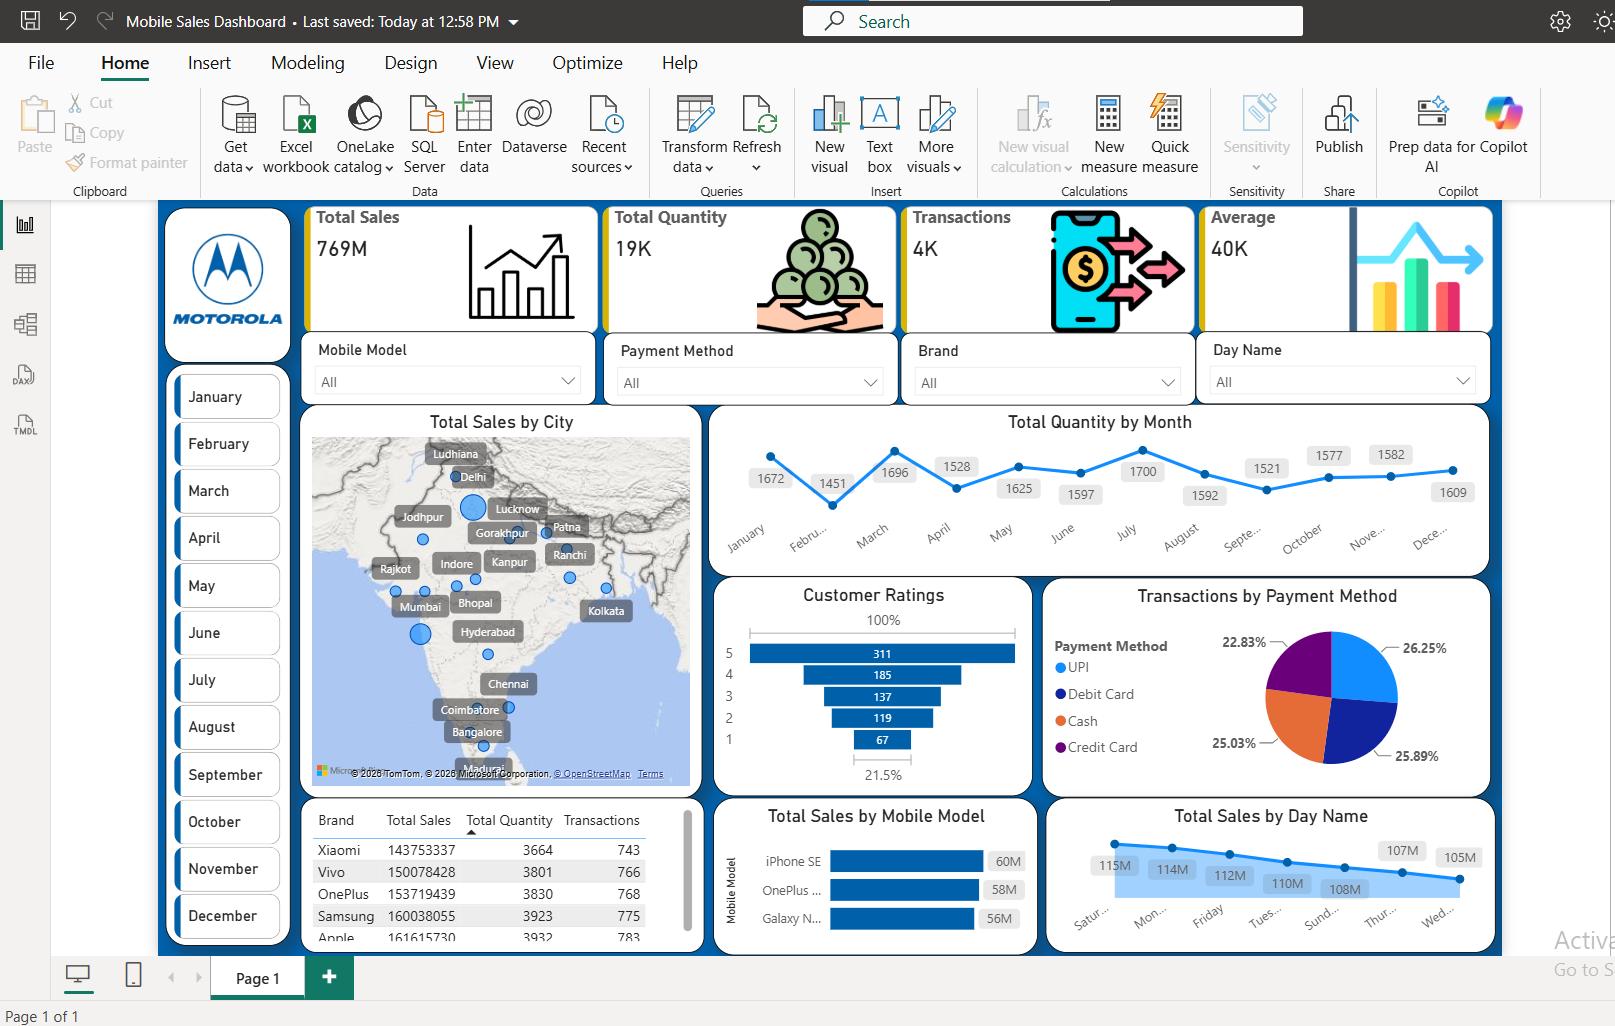

What the dashboard file says about the page in this screenshot:
{"tool":"powerbi","page":{"name":"Page 1","canvas":[1280,720],"ordinal":0},"visuals":[{"type":"shape","box":[5.5,6.9,120.8,148.2],"z":0},{"type":"image","box":[9.6,16.5,113.9,116.6],"z":1000},{"type":"shape","box":[6.9,156.4,119.4,554.4],"z":2000},{"type":"advancedSlicerVisual","fields":{"Values":["Sales_Data.Date.Variation.Date Hierarchy.Month"]},"box":[11,160.5,111.1,548.9],"z":3000},{"type":"cardVisual","fields":{"Data":["Sales_Data.Total Sales","Sales_Data.Total Quantity","Sales_Data.Transactions","Sales_Data.Average"]},"box":[134.5,5.5,1145.8,127.6],"z":4000},{"type":"map","fields":{"Category":["Sales_Data.City"],"Size":["Sales_Data.Total Sales"]},"box":[134.5,193.5,384.2,376],"z":5000},{"type":"lineChart","fields":{"Category":["Sales_Data.Date.Variation.Date Hierarchy.Month","Sales_Data.Date.Variation.Date Hierarchy.Day"],"Y":["Sales_Data.Total Quantity"]},"box":[524.2,193.5,745.1,164.7],"z":6000},{"type":"clusteredBarChart","fields":{"Category":["Sales_Data.Mobile Model"],"Y":["Sales_Data.Total Sales"]},"box":[528.6,569.1,309.5,150],"z":7000},{"type":"pieChart","fields":{"Category":["Sales_Data.Payment Method"],"Y":["Sales_Data.Transactions"]},"box":[841.7,359.5,428.1,209.9],"z":8000},{"type":"funnel","title":"Customer Ratings","fields":{"Category":["Sales_Data.Customer Ratings"],"Y":["CountNonNull(Sales_Data.Customer Ratings)"]},"box":[528.6,358.3,304.6,209.9],"z":9000},{"type":"areaChart","fields":{"Category":["Sales_Data.Day Name"],"Y":["Sales_Data.Total Sales"]},"box":[845.2,569.1,428.6,147.6],"z":10000},{"type":"tableEx","fields":{"Values":["Sales_Data.Brand","Sales_Data.Total Sales","Sales_Data.Total Quantity","Sales_Data.Transactions"]},"box":[135.7,569.1,384.5,147.6],"z":11000},{"type":"slicer","fields":{"Values":["Sales_Data.Mobile Model"]},"box":[135.8,124.9,281.4,70.3],"z":12000},{"type":"slicer","fields":{"Values":["Sales_Data.Payment Method"]},"box":[424,126.2,281.4,69.2],"z":13000},{"type":"slicer","fields":{"Values":["Sales_Data.Brand"]},"box":[706.7,126.2,281.4,69.2],"z":14000},{"type":"slicer","fields":{"Values":["Sales_Data.Day Name"]},"box":[988,124.9,281.4,69.2],"z":15000}]}

Visuals, with their boxes on the page's 1280x720 design canvas (x1, y1, x2, y2). These are canvas units, not pixel positions in the 1615x1026 screenshot, which may show the page scaled, cropped or inside an application window:
shape: <box>6,7,126,155</box>
image: <box>10,16,124,133</box>
shape: <box>7,156,126,711</box>
advancedSlicerVisual - Sales_Data.Date.Variation.Date Hierarchy.Month: <box>11,160,122,709</box>
cardVisual - Sales_Data.Total Sales x Sales_Data.Total Quantity: <box>134,6,1280,133</box>
map - Sales_Data.City x Sales_Data.Total Sales: <box>134,194,519,570</box>
lineChart - Sales_Data.Date.Variation.Date Hierarchy.Month x Sales_Data.Date.Variation.Date Hierarchy.Day: <box>524,194,1269,358</box>
clusteredBarChart - Sales_Data.Mobile Model x Sales_Data.Total Sales: <box>529,569,838,719</box>
pieChart - Sales_Data.Payment Method x Sales_Data.Transactions: <box>842,360,1270,569</box>
"Customer Ratings" funnel: <box>529,358,833,568</box>
areaChart - Sales_Data.Day Name x Sales_Data.Total Sales: <box>845,569,1274,717</box>
tableEx - Sales_Data.Brand x Sales_Data.Total Sales: <box>136,569,520,717</box>
slicer - Sales_Data.Mobile Model: <box>136,125,417,195</box>
slicer - Sales_Data.Payment Method: <box>424,126,705,195</box>
slicer - Sales_Data.Brand: <box>707,126,988,195</box>
slicer - Sales_Data.Day Name: <box>988,125,1269,194</box>
